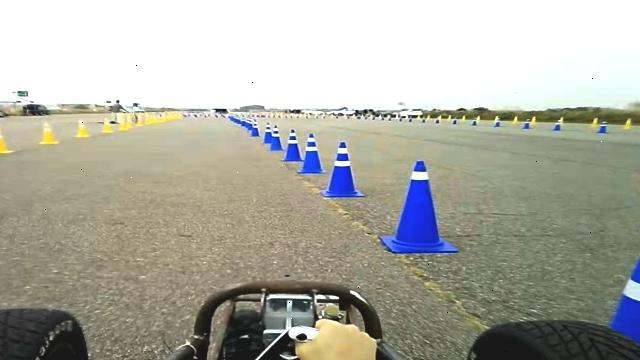blue cone: (378, 160, 459, 253), (608, 244, 640, 347), (322, 141, 366, 198), (298, 132, 326, 174), (282, 129, 304, 161), (268, 125, 284, 151), (263, 122, 274, 144), (250, 121, 260, 137), (522, 118, 531, 129), (597, 124, 608, 133), (554, 124, 562, 131), (494, 121, 502, 127)
yellow cone: (0, 119, 22, 153), (39, 121, 60, 145), (622, 118, 633, 130), (494, 116, 502, 128), (591, 117, 599, 127), (512, 115, 520, 124), (530, 115, 538, 122), (559, 116, 565, 124)
